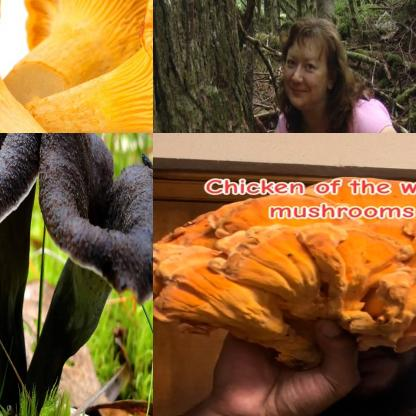CoW: (153, 172, 416, 371)
chanterelle: (39, 133, 153, 416), (20, 0, 153, 133), (0, 133, 57, 416), (4, 0, 153, 105), (0, 0, 76, 133)
